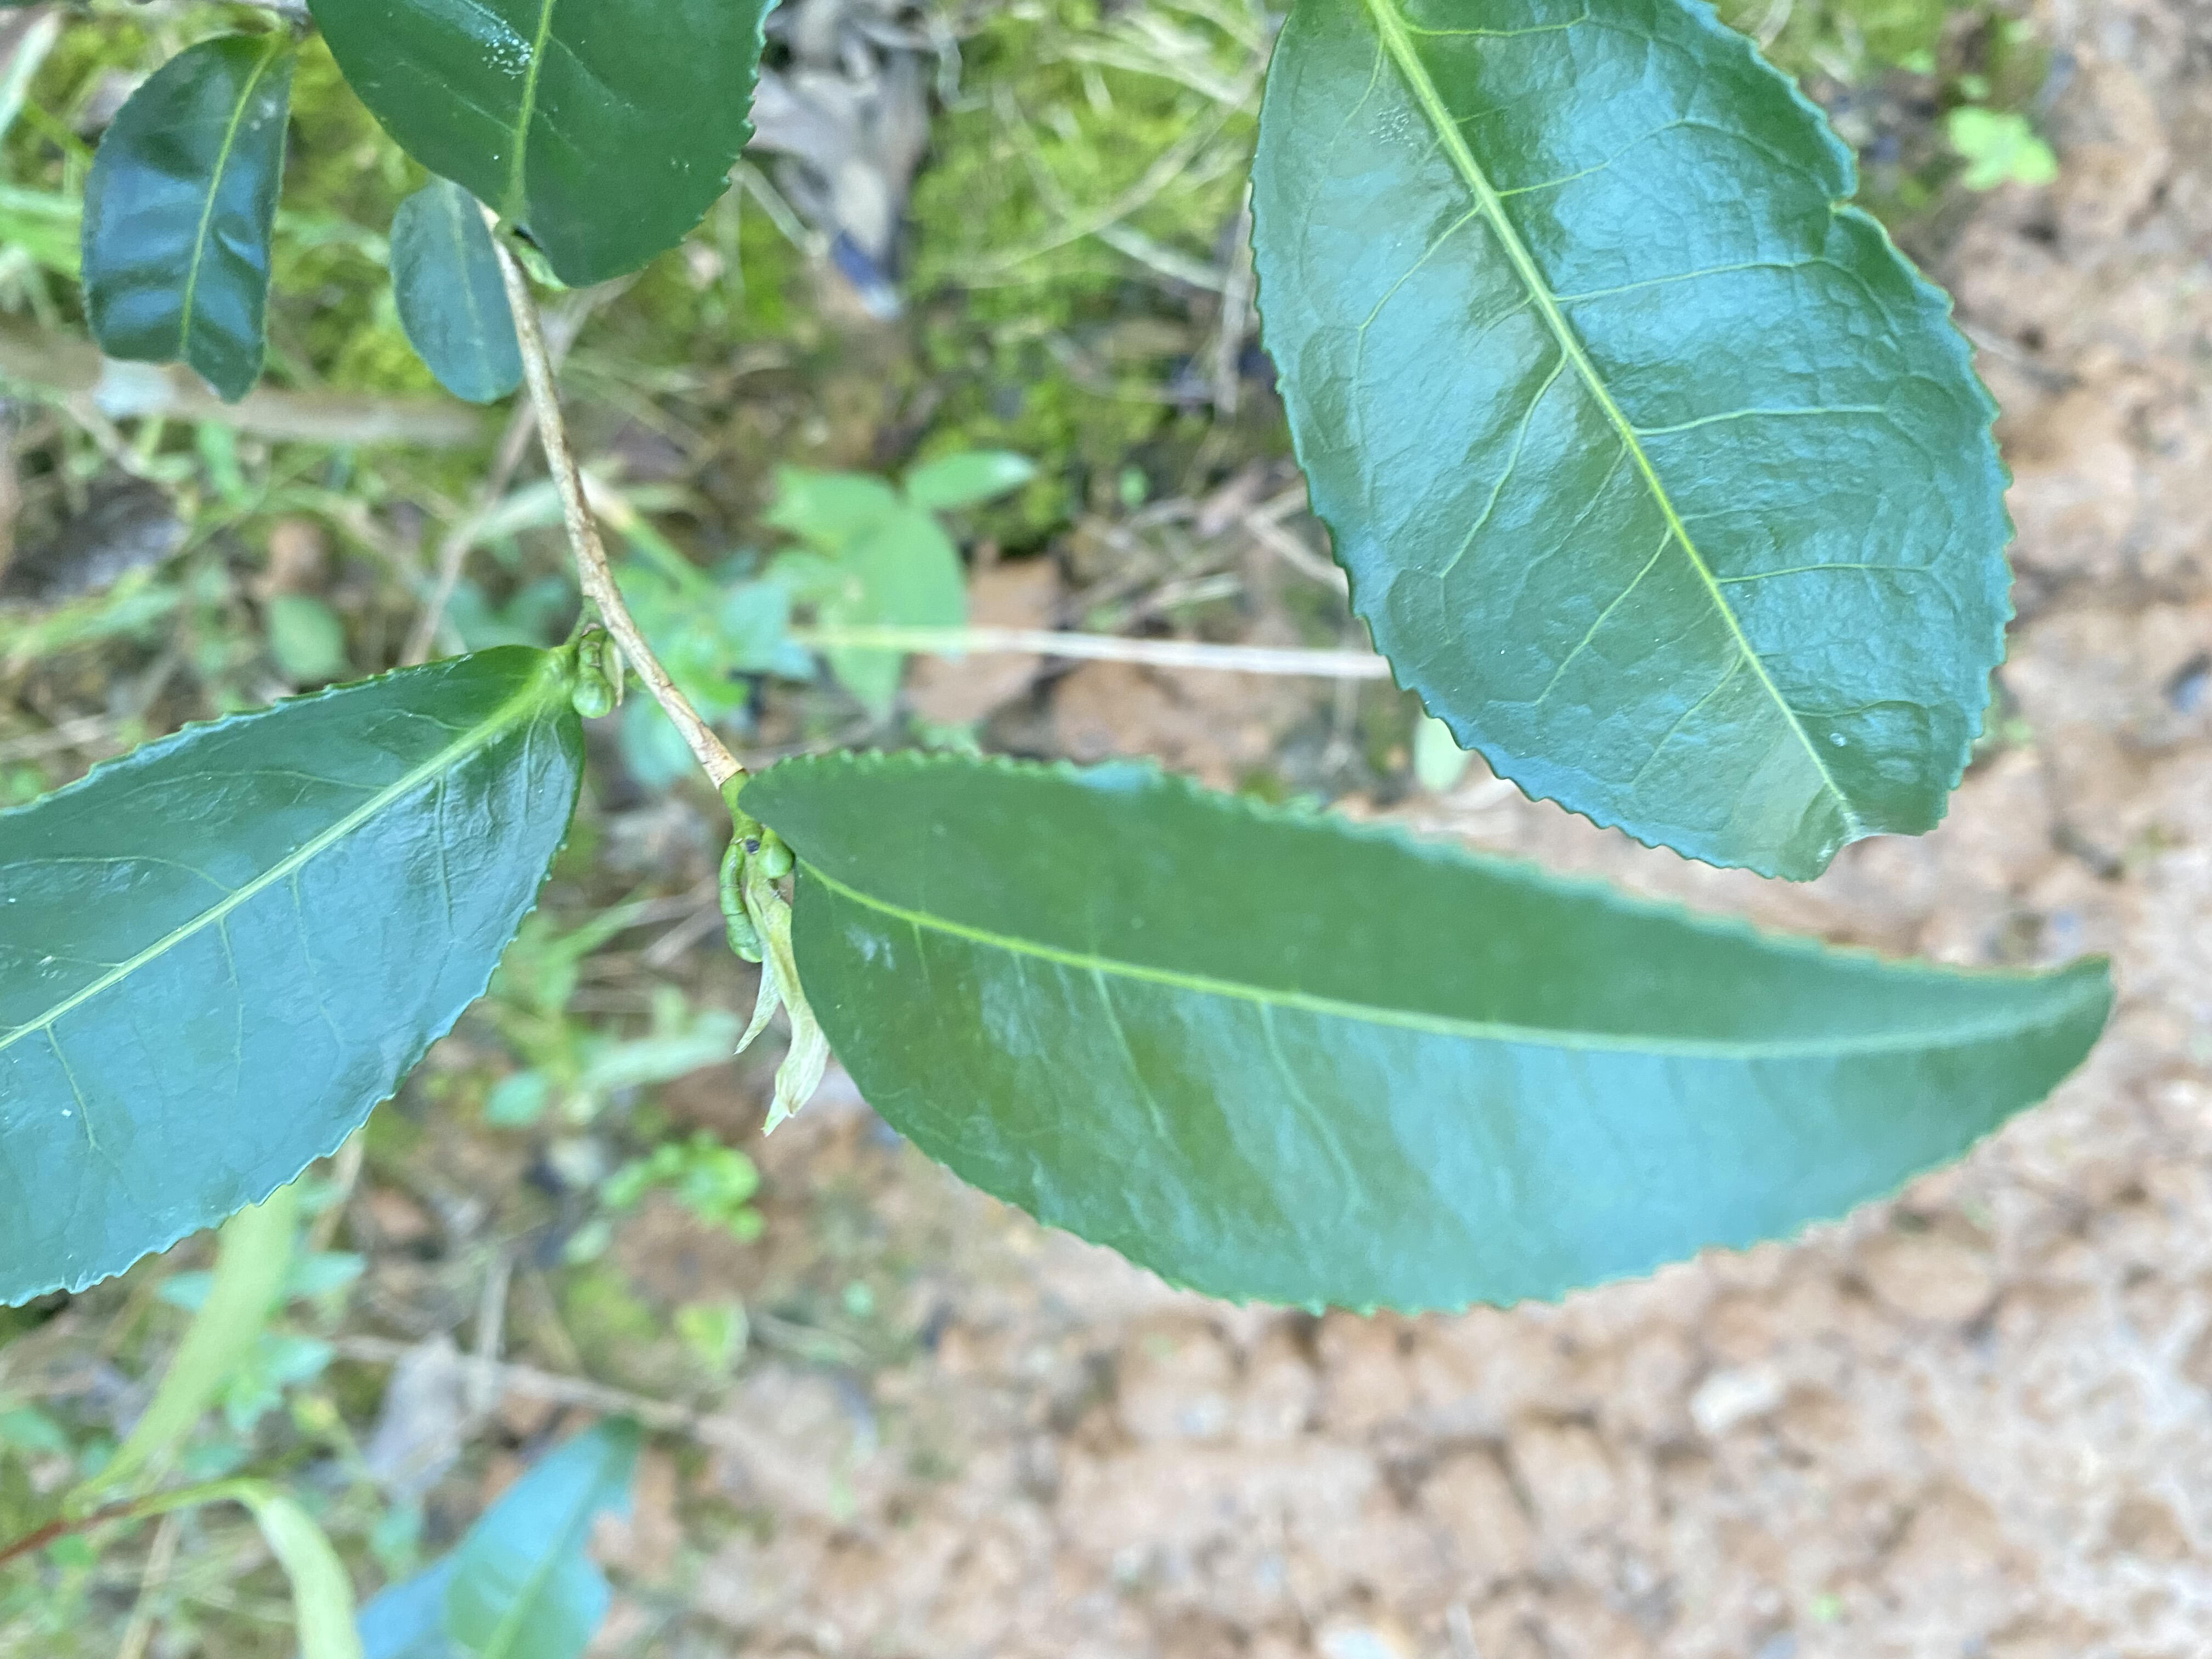healthy: (737, 746, 2116, 1321), (1249, 3, 2019, 884), (3, 647, 590, 1309)
